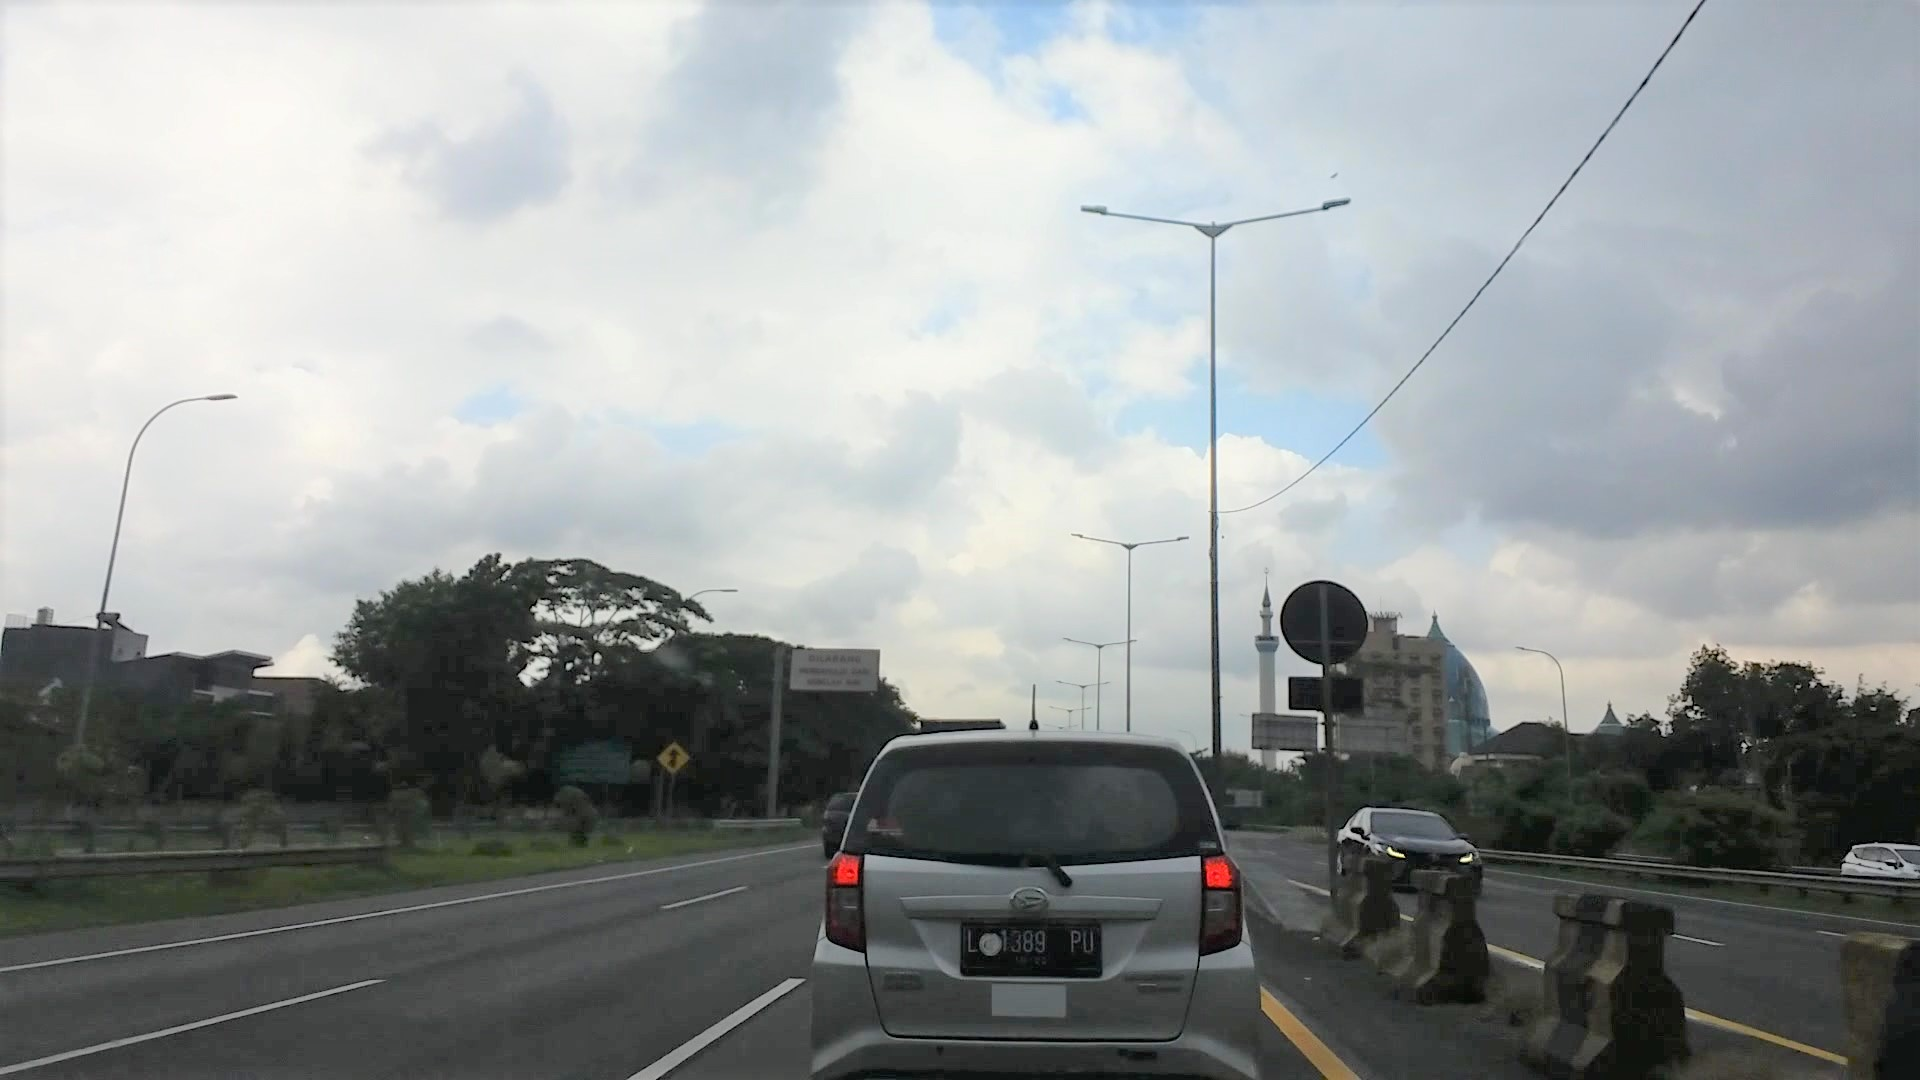plate_positive: (960, 920, 1102, 978)
